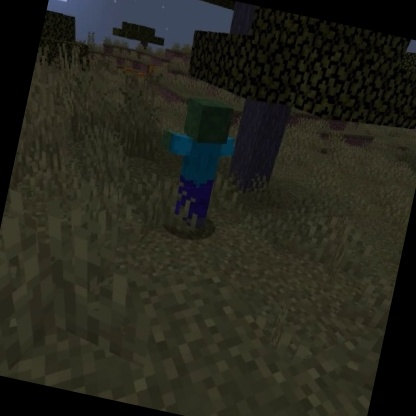zombie: (139, 87, 249, 244)
